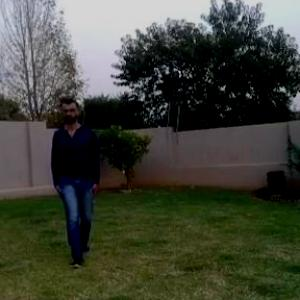follow: (53, 105, 101, 256)
